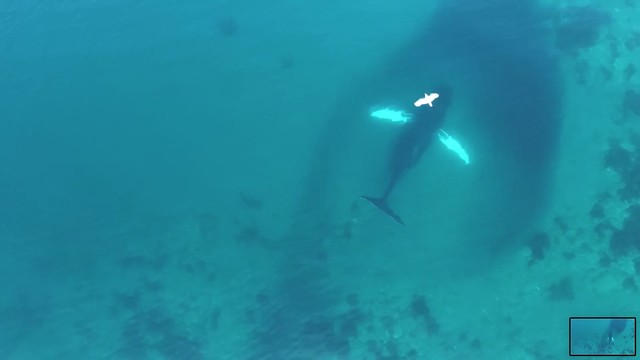whale: (355, 74, 472, 233)
